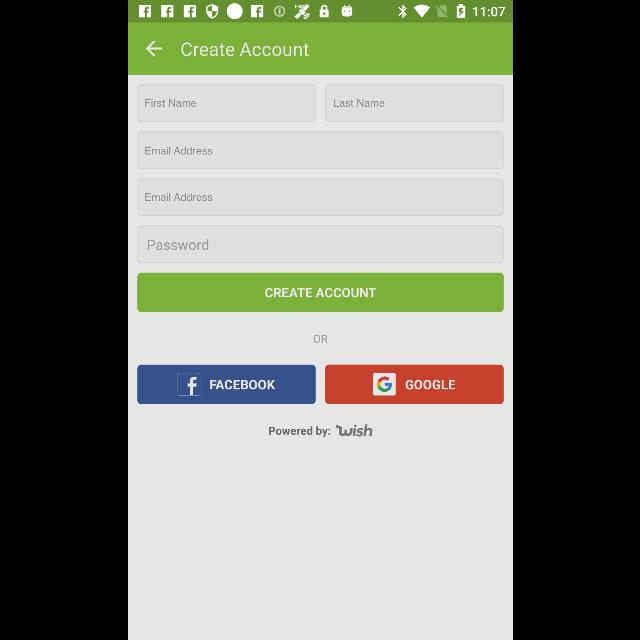icon: (144, 41, 162, 58)
image: (334, 424, 372, 436)
input: (137, 226, 503, 264), (137, 131, 503, 169), (325, 85, 503, 122), (137, 85, 315, 122)
text: (137, 180, 503, 217), (181, 43, 309, 57), (268, 427, 330, 438), (146, 240, 208, 250), (144, 193, 212, 201), (144, 147, 212, 155), (144, 99, 196, 107), (334, 99, 384, 107), (313, 334, 327, 344)
textbutton: (136, 274, 504, 312), (324, 366, 503, 404), (137, 366, 316, 404)
toolbar: (128, 23, 512, 75)
uppertaskbar: (128, 1, 512, 23)
